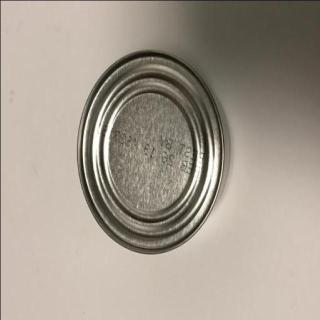Anorganik: (68, 47, 225, 264)
